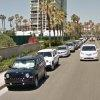Car: (76, 41, 99, 74)
